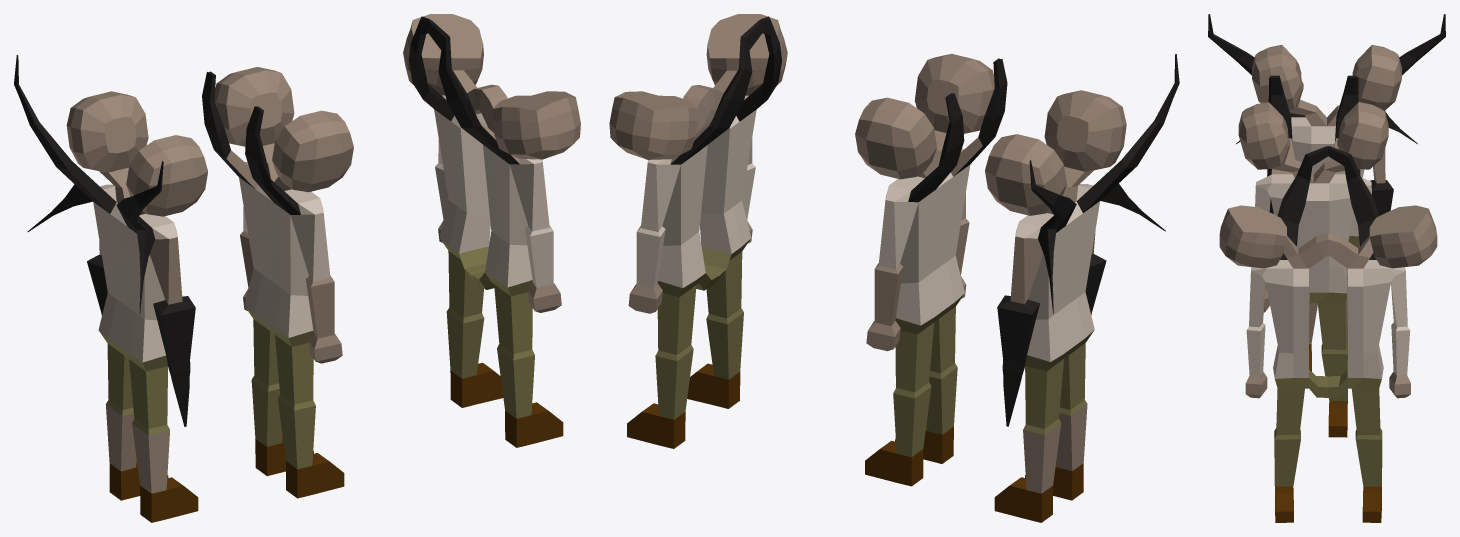
File: NpcSet.fbx
3 renders of one model, left to right at view 1: azimuth 30°, elevation 25°; view 2: azimuth 150°, elevation 25°; view 3: azimuth 270°, elevation 25°, orthographic. The views are drawn at different scales.
Visible parts, largest first — view 1: NPC_02, NPC_00, NPC_01; view 2: NPC_02, NPC_00, NPC_01; view 3: NPC_02, NPC_01, NPC_00.
Part boxes in pixels (box(x1,y1,x2,y2)): NPC_02: box(403, 14, 580, 447); NPC_00: box(14, 55, 207, 522); NPC_01: box(202, 67, 353, 498); NPC_02: box(609, 14, 787, 448); NPC_00: box(985, 54, 1179, 522); NPC_01: box(855, 53, 1007, 486); NPC_02: box(1219, 146, 1437, 522); NPC_01: box(1238, 75, 1388, 437); NPC_00: box(1208, 14, 1445, 371).
Size of the model in its own units: 1201 by 1353 by 767.
